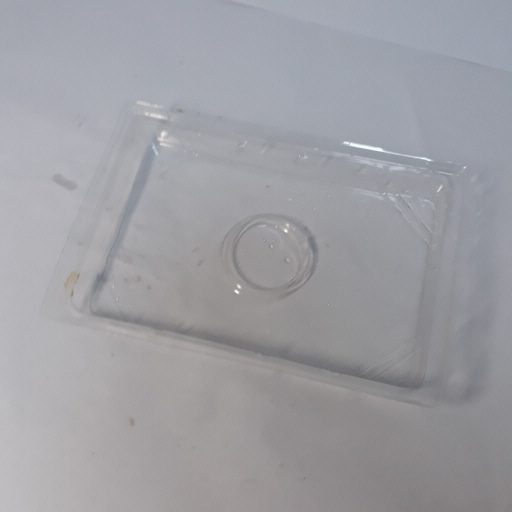Plastic_4: (60, 101, 469, 410)
